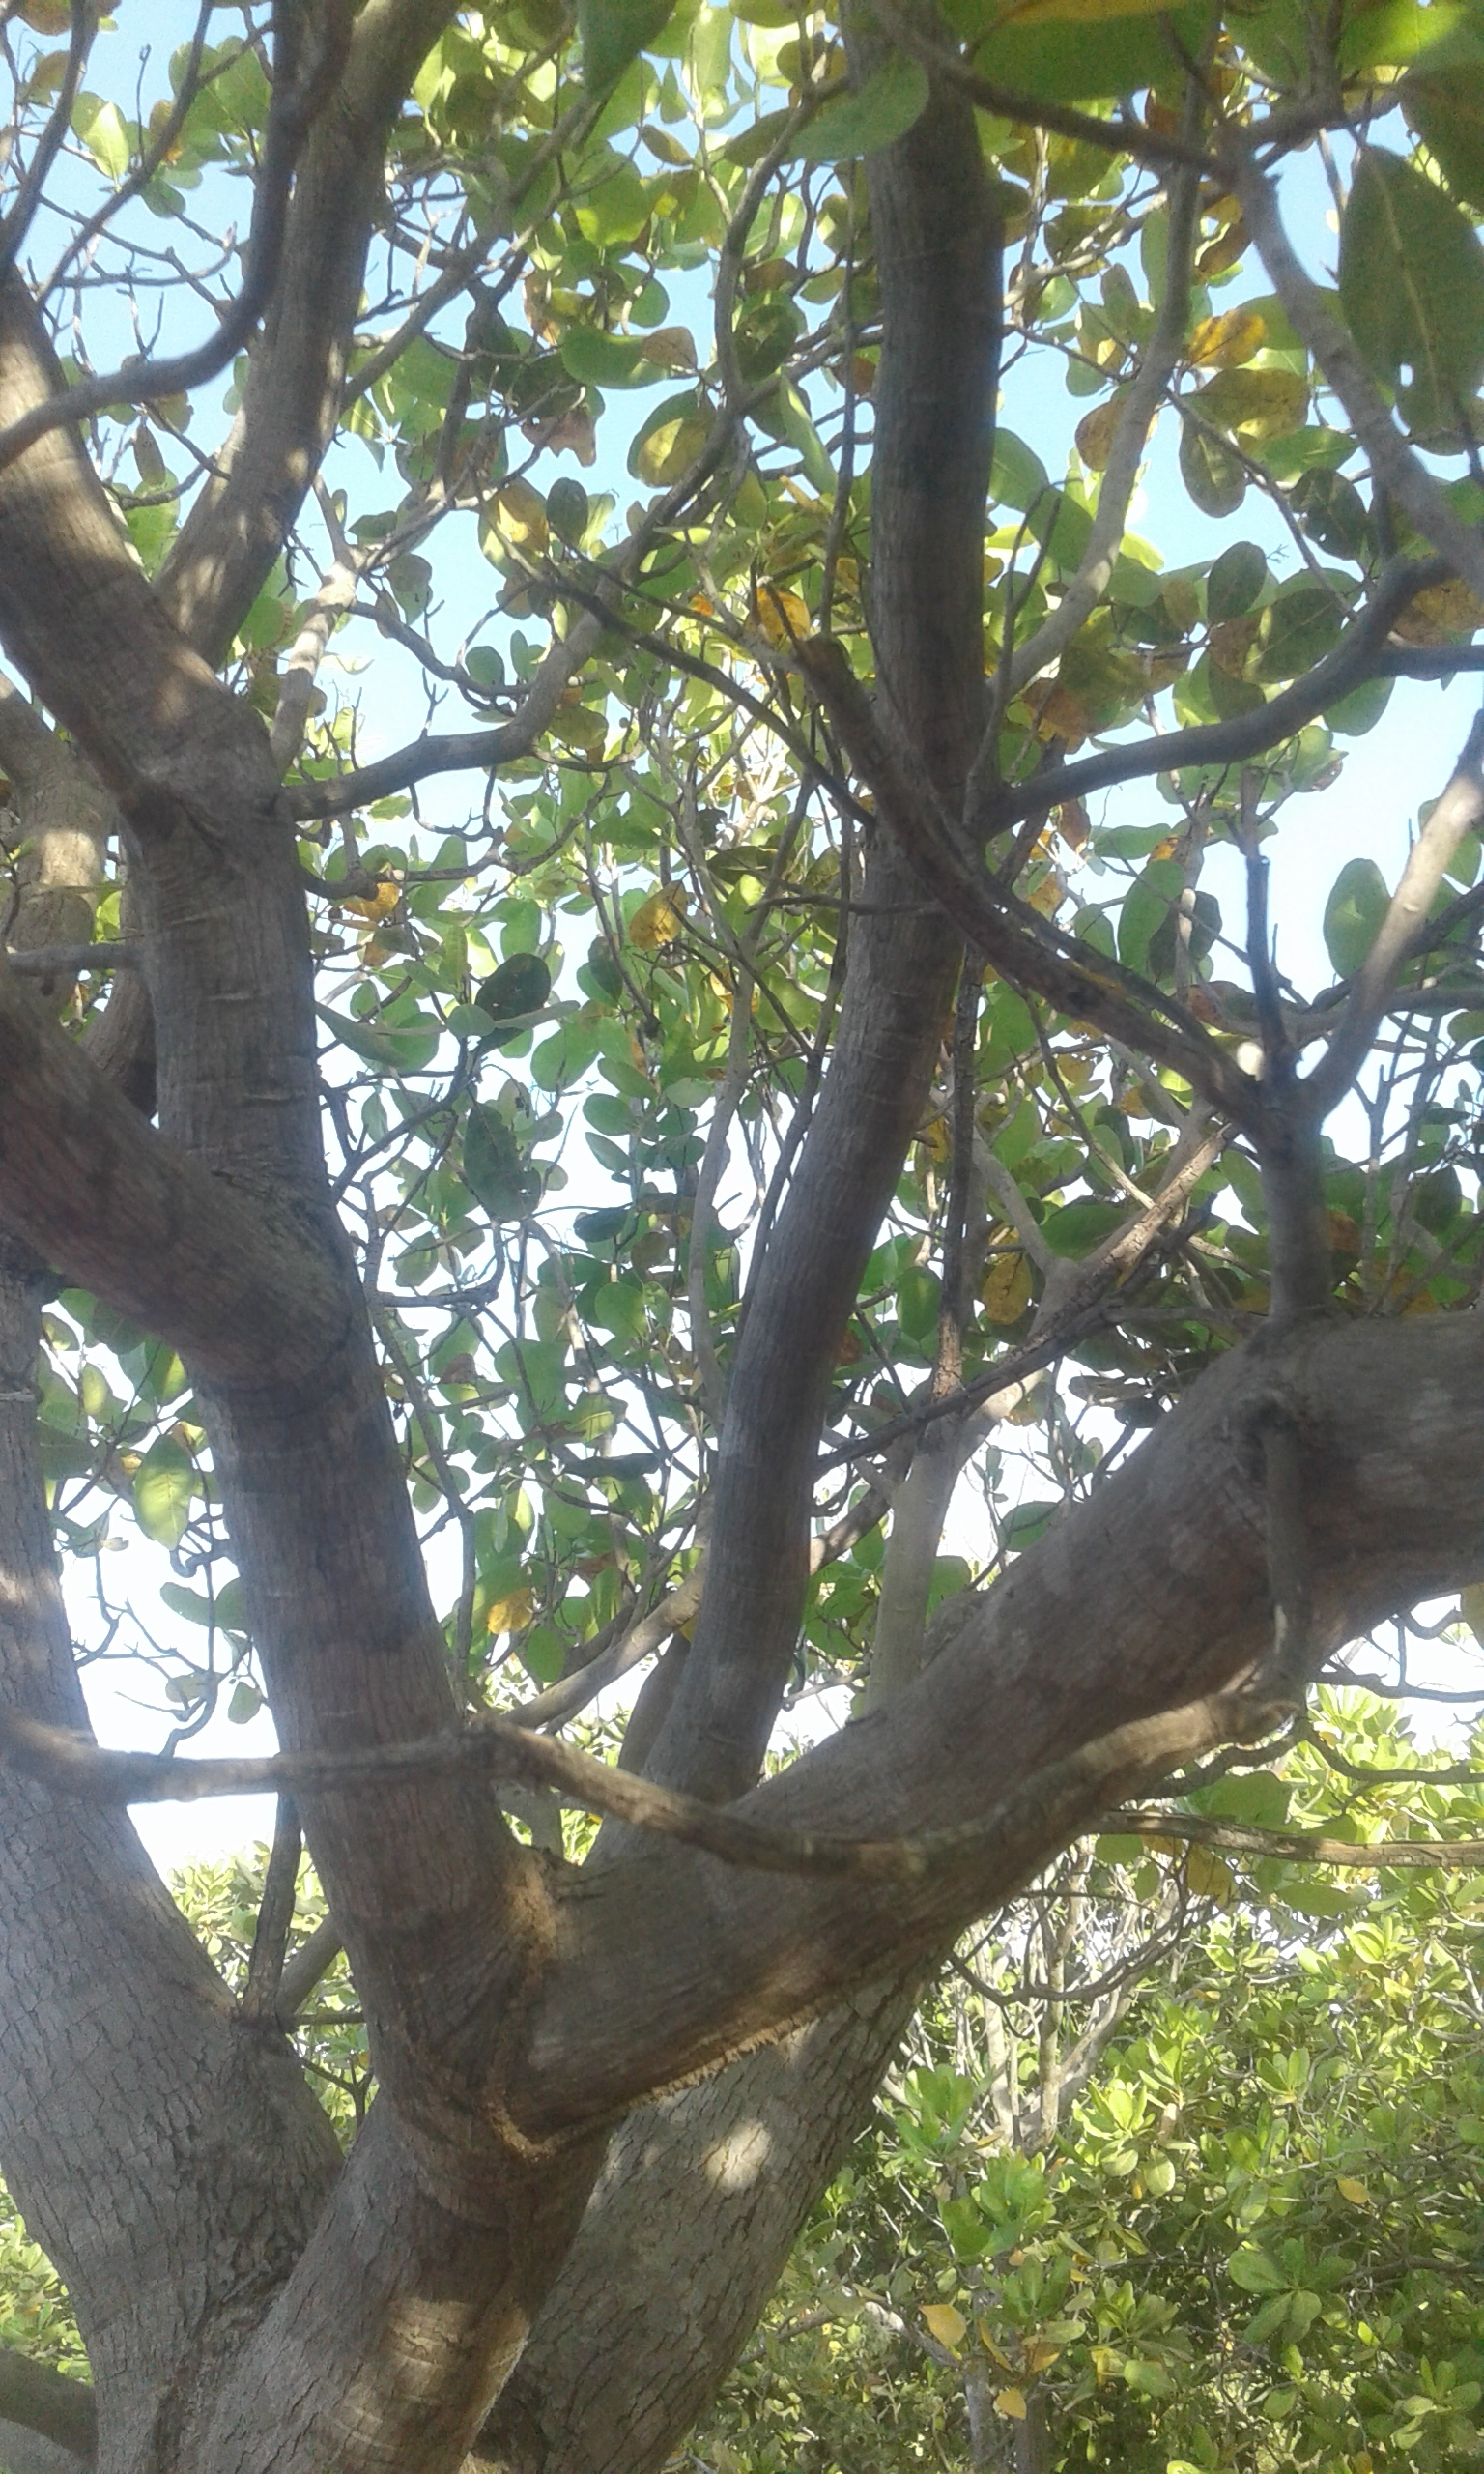Termites: (387, 1983, 615, 2220)
